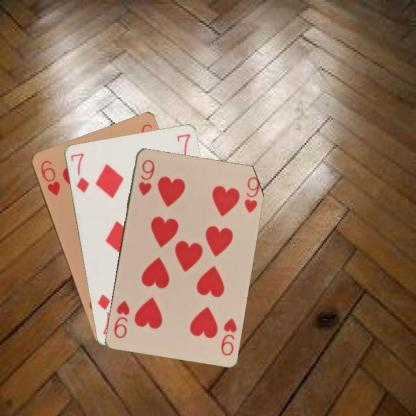6h: (38, 157, 61, 197)
7d: (68, 150, 90, 194)
9h: (218, 315, 238, 357), (136, 157, 156, 197)
